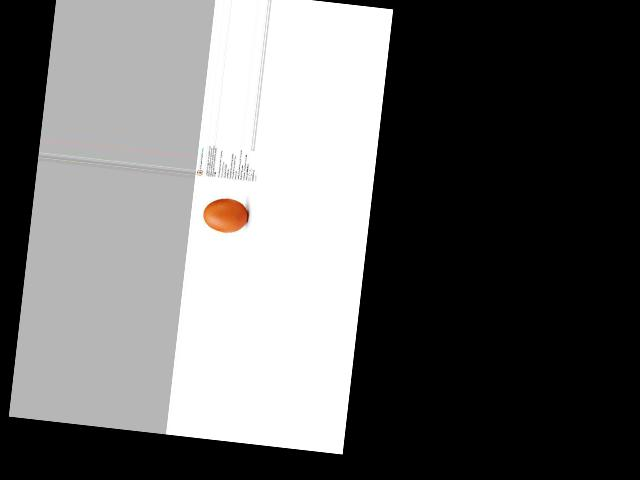egg: (202, 196, 249, 234)
